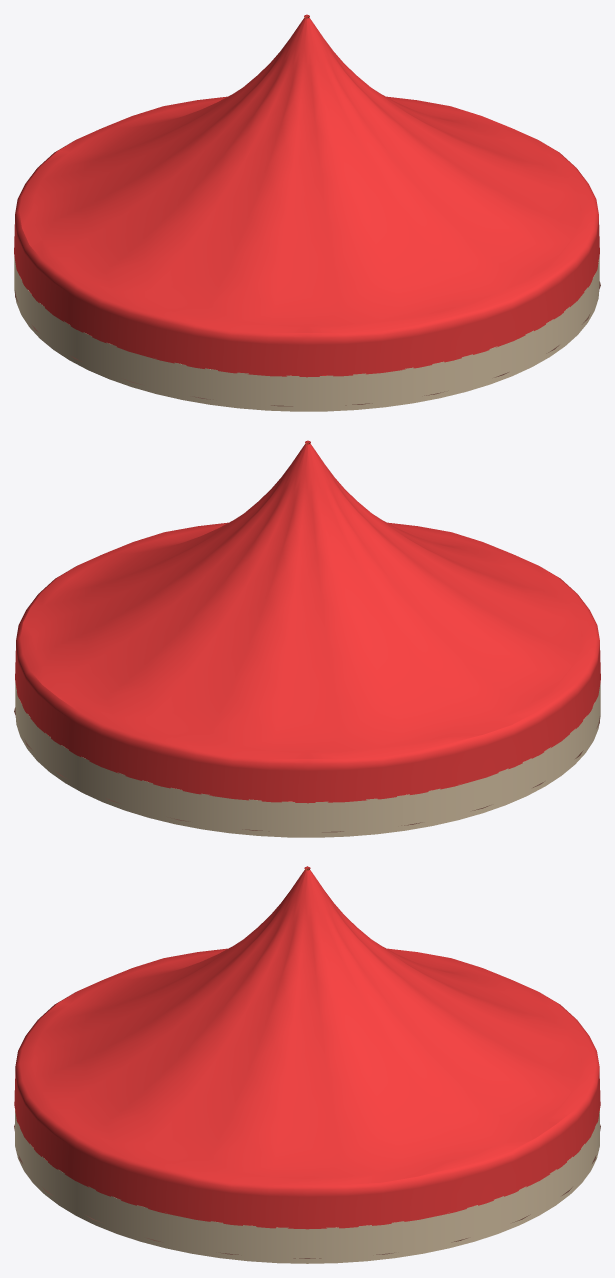
File: tent_1.fbx
3 renders of one model, top to bottom at view 1: azimuth 30°, elevation 25°; view 2: azimuth 150°, elevation 25°; view 3: azimuth 270°, elevation 25°, orthographic.
Parts seen in each view (by area): view 1: tent, edge_ring; view 2: tent, edge_ring; view 3: tent, edge_ring.
Part boxes in pixels (x1,y1,x2,y2): tent: (14, 14, 599, 377); edge_ring: (14, 257, 599, 411); tent: (15, 440, 600, 803); edge_ring: (15, 683, 600, 837); tent: (14, 866, 600, 1229); edge_ring: (15, 1109, 599, 1263).
Size of the model in its own units: 8775 by 4514 by 8770.
4 materials, 1 textured.
